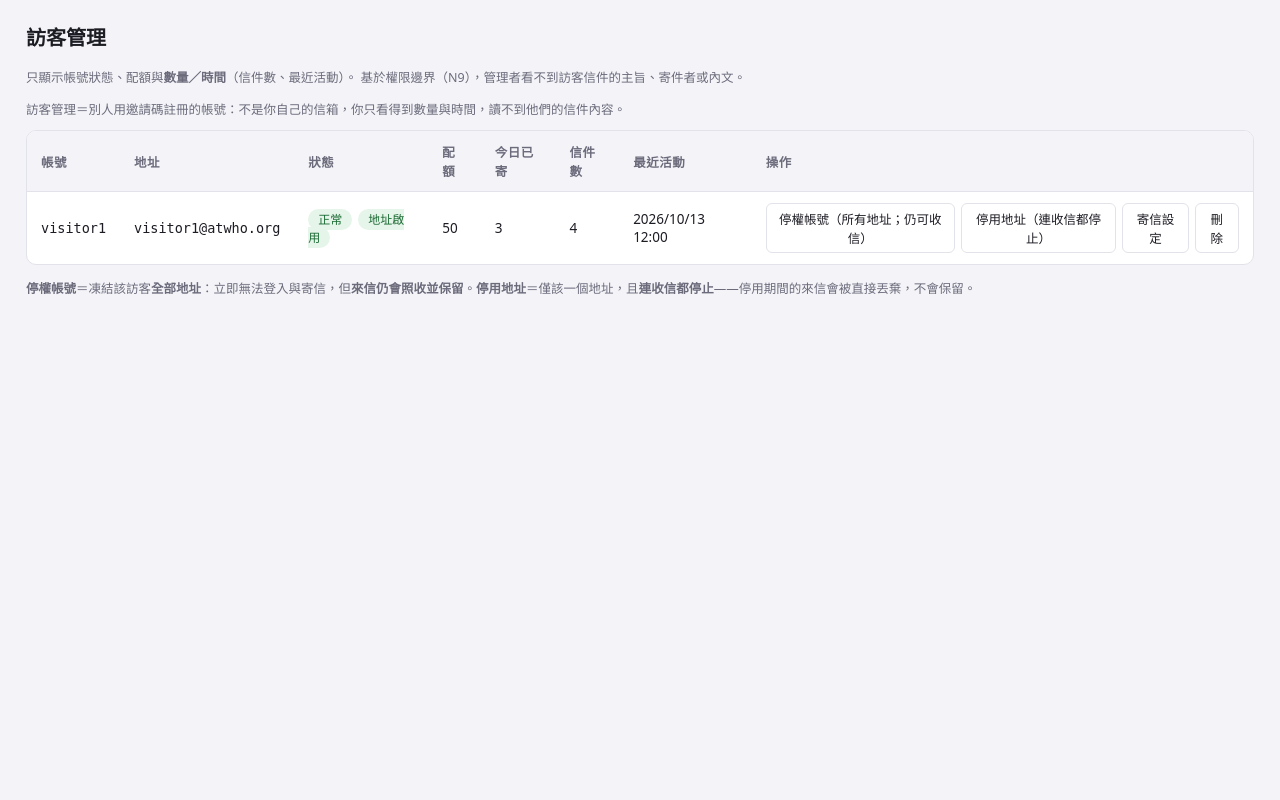
Test: T33-3（D8-2）：停權與停用的文案與 tooltip › 停權前的二次確認明寫「來信仍會照常收到並保留」（與停用的關鍵差別）
The width and height of the screenshot is (1280, 800).
Click the button "停權帳號（所有地址；仍可收信）".
click(860, 228)  # box [766,203,955,253]
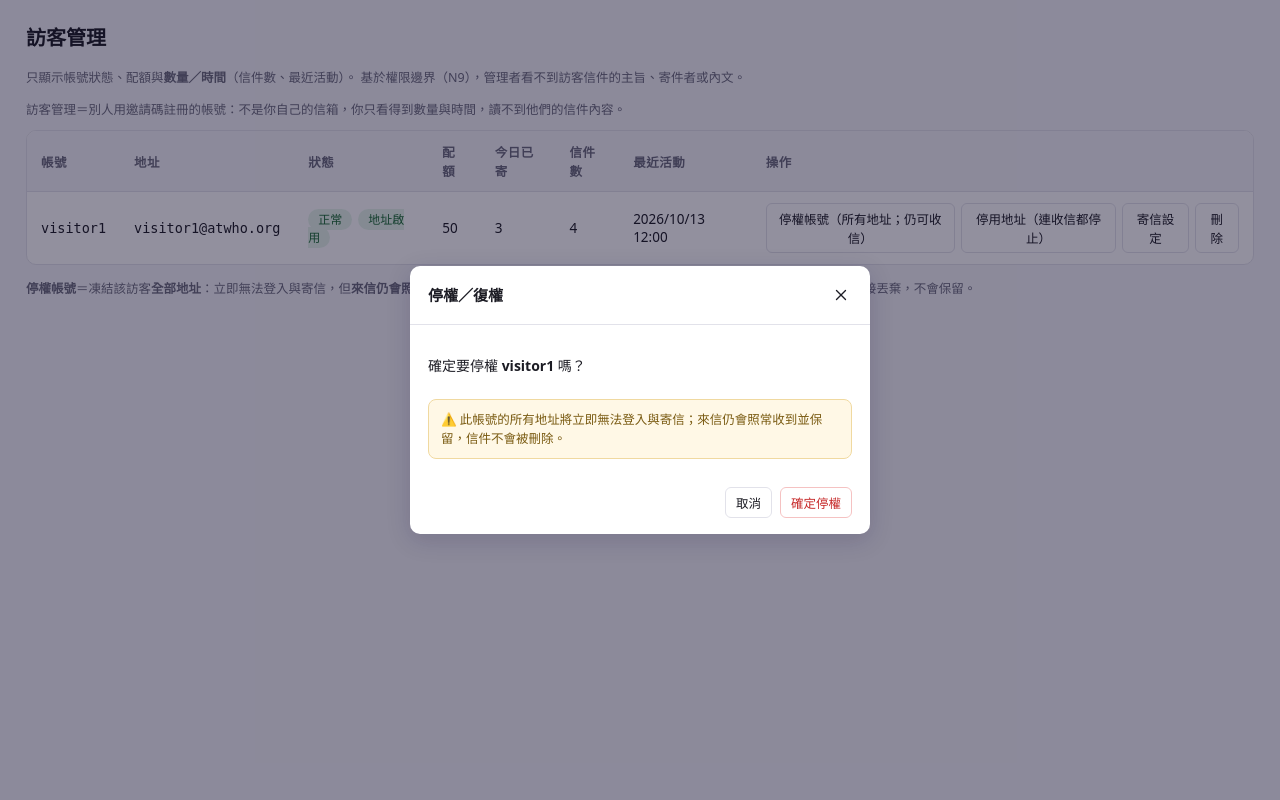
Result: the text "visitor1" is shown at [502,356,554,375]
Result: the text "⚠️ 此帳號的所有地址將立即無法登入與寄信；來信仍會照常收到並保留，信件不會被刪除。" is shown at [428,399,852,459]
